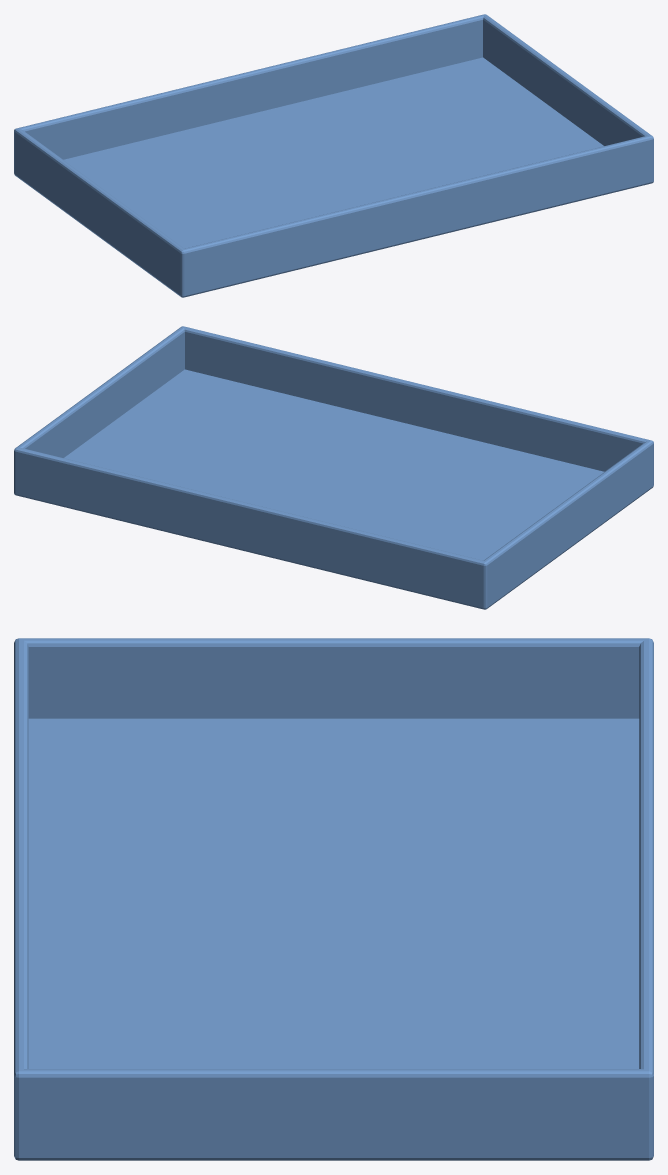
File: parts_tray.fbx
3 renders of one model, top to bottom at view 1: azimuth 30°, elevation 25°; view 2: azimuth 150°, elevation 25°; view 3: azimuth 270°, elevation 25°, orthographic. The views are drawn at different scales.
Parts seen in each view (by area): view 1: parts_tray; view 2: parts_tray; view 3: parts_tray.
Boxes of the visible parts, box(x1,y1,x2,y2) form: parts_tray: box(14, 14, 653, 297); parts_tray: box(14, 326, 653, 609); parts_tray: box(14, 638, 653, 1160).
Size of the model in its own units: 0.42 by 0.04 by 0.26.
